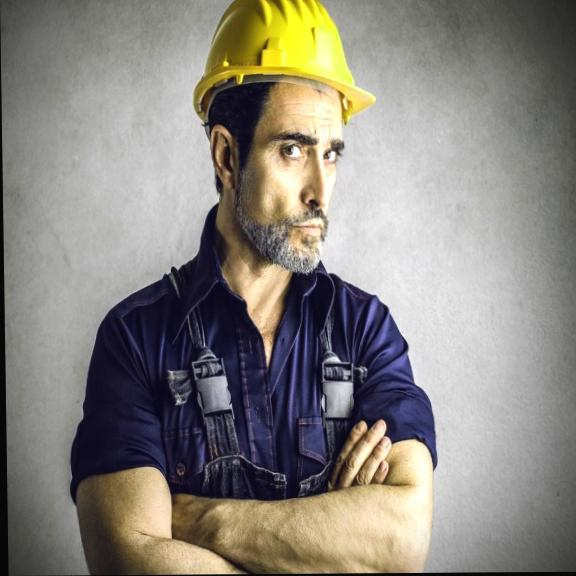no_safety_vest: (61, 257, 443, 576)
